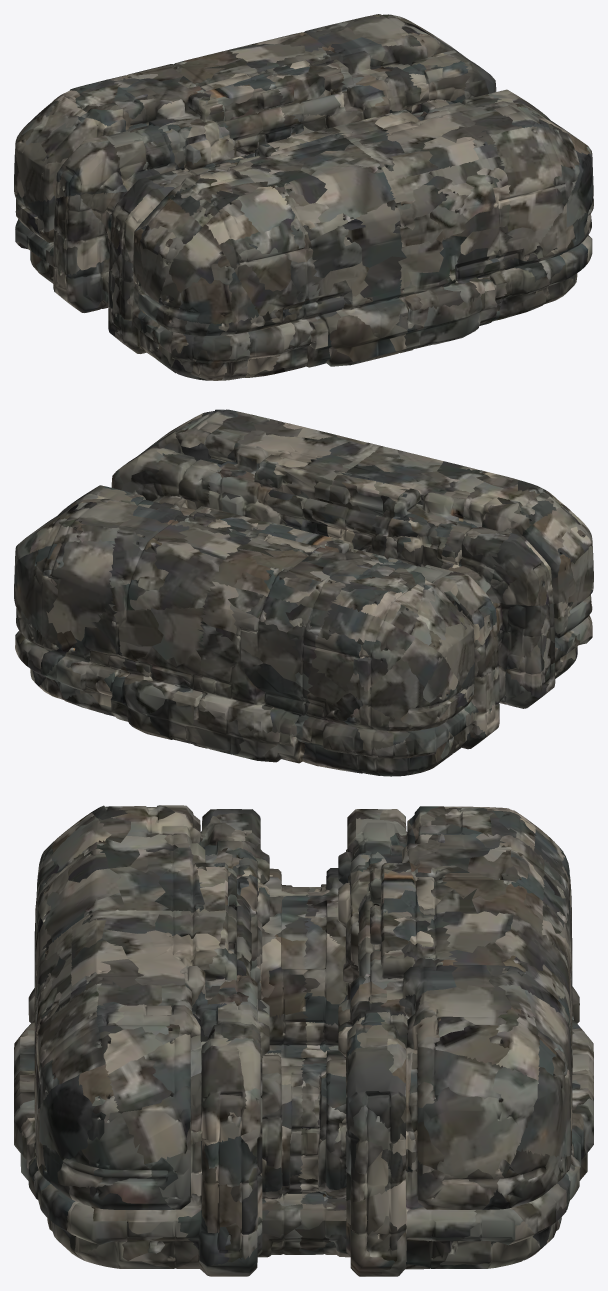
The model's file is arc-switchback-lean.glb.
3 renders of one model, top to bottom at view 1: azimuth 30°, elevation 25°; view 2: azimuth 150°, elevation 25°; view 3: azimuth 270°, elevation 25°, orthographic. The views are drawn at different scales.
Visible parts, largest first — view 1: chassis; view 2: chassis; view 3: chassis.
Part boxes in pixels (left/top/right/bottom): chassis: left=14, top=14, right=593, bottom=380; chassis: left=14, top=409, right=593, bottom=776; chassis: left=14, top=805, right=593, bottom=1276.
Size of the model in its own units: 0.99 by 0.3795 by 0.8494.
Materials: 1 (1 with a texture image).
